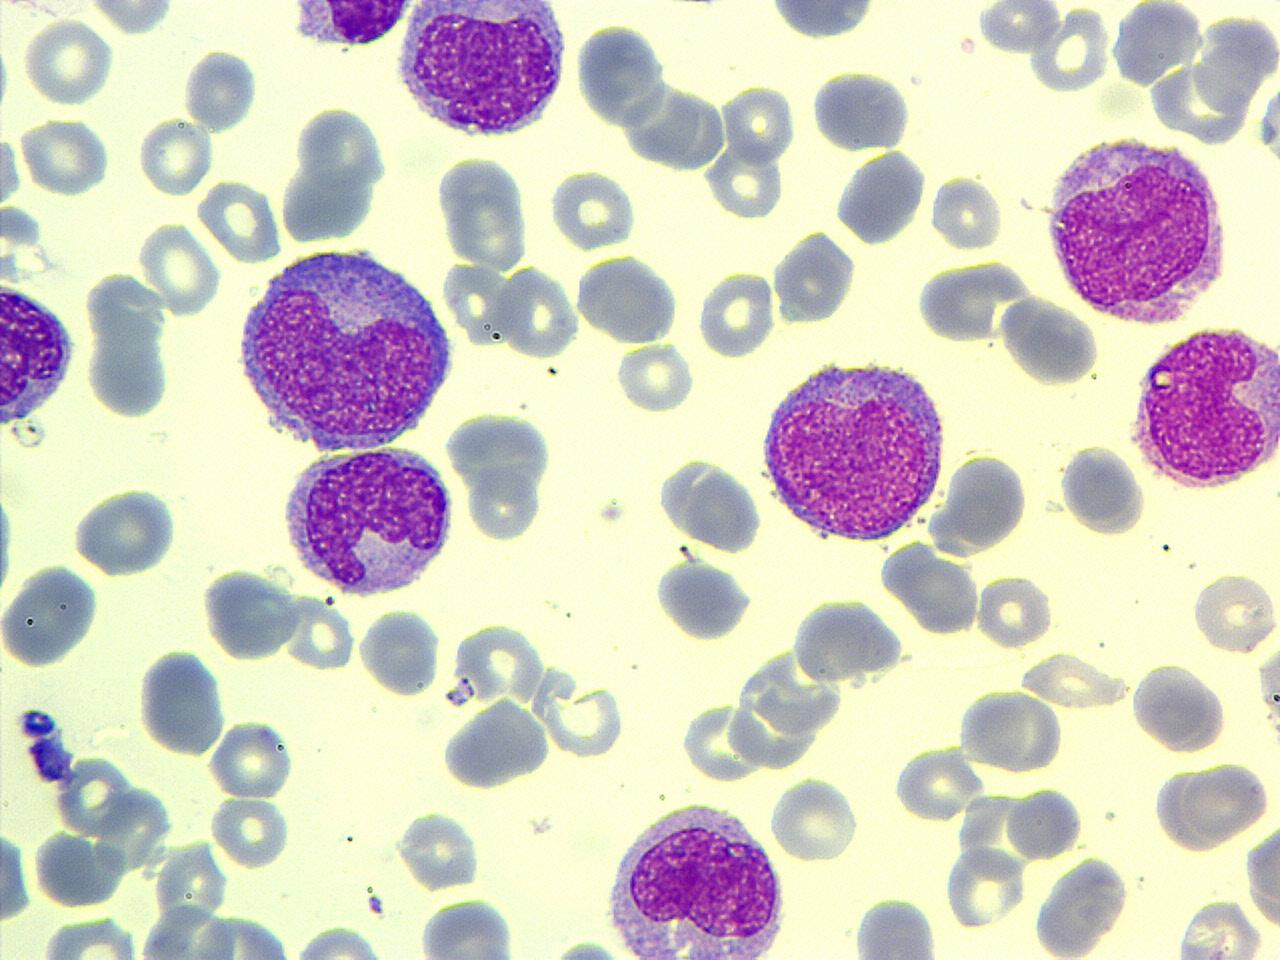Platelets: (69, 484, 185, 578), (357, 606, 443, 698), (181, 44, 262, 134), (463, 466, 546, 542), (26, 738, 73, 784), (0, 482, 18, 596), (552, 937, 620, 960), (15, 706, 58, 740), (0, 36, 15, 117)
RBC: (434, 149, 536, 272), (788, 593, 908, 691), (928, 447, 1029, 558), (0, 562, 102, 671), (70, 484, 184, 580), (201, 562, 300, 664), (1000, 292, 1103, 387), (954, 684, 1061, 772), (808, 66, 915, 153), (1129, 659, 1227, 752), (137, 218, 223, 320), (768, 230, 858, 326), (768, 773, 862, 864), (357, 604, 446, 699), (1057, 441, 1145, 537), (453, 618, 546, 708), (498, 261, 582, 360), (24, 16, 114, 108), (19, 113, 114, 197), (696, 264, 778, 361), (1190, 569, 1278, 657), (548, 167, 638, 254), (207, 715, 298, 800), (198, 175, 282, 266), (1028, 4, 1112, 96), (394, 808, 482, 892), (1017, 648, 1131, 713), (680, 698, 764, 785), (1181, 759, 1269, 840), (943, 845, 1026, 930), (893, 742, 978, 824), (720, 81, 796, 169), (928, 169, 1008, 252), (209, 793, 291, 871), (542, 682, 625, 760), (136, 114, 214, 198), (848, 891, 944, 958), (974, 572, 1053, 650), (466, 465, 543, 544), (614, 340, 694, 415), (1005, 784, 1083, 860), (1173, 894, 1265, 960), (285, 594, 357, 676), (974, 0, 1062, 55), (36, 914, 144, 958), (1242, 820, 1280, 931), (286, 924, 391, 959), (86, 0, 179, 36)
WBC: (231, 238, 460, 455), (1040, 131, 1234, 330), (754, 355, 950, 546), (600, 796, 792, 960), (276, 439, 460, 600), (1128, 320, 1280, 493), (390, 0, 573, 142), (273, 99, 400, 245), (79, 266, 180, 423), (0, 277, 81, 434), (656, 454, 767, 556), (134, 644, 230, 760), (1, 562, 103, 671), (439, 697, 554, 793), (792, 592, 908, 686), (1030, 852, 1130, 960), (573, 250, 683, 348), (74, 482, 182, 576), (808, 65, 917, 157), (833, 145, 932, 246), (652, 554, 757, 642), (770, 226, 856, 327), (282, 0, 418, 53), (848, 892, 942, 960), (134, 904, 243, 958), (760, 0, 884, 42)
